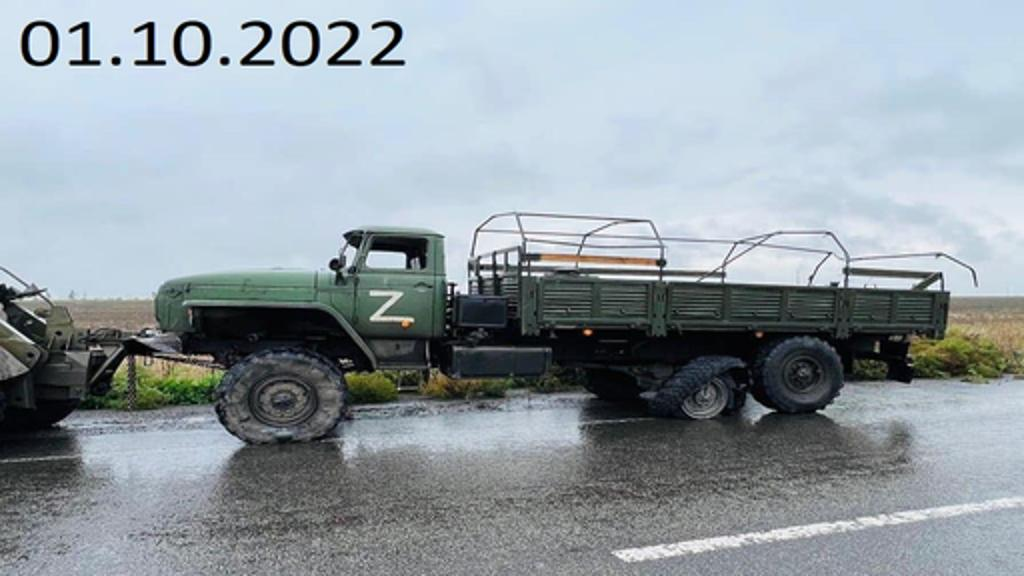TRUCK: (136, 204, 960, 456)
